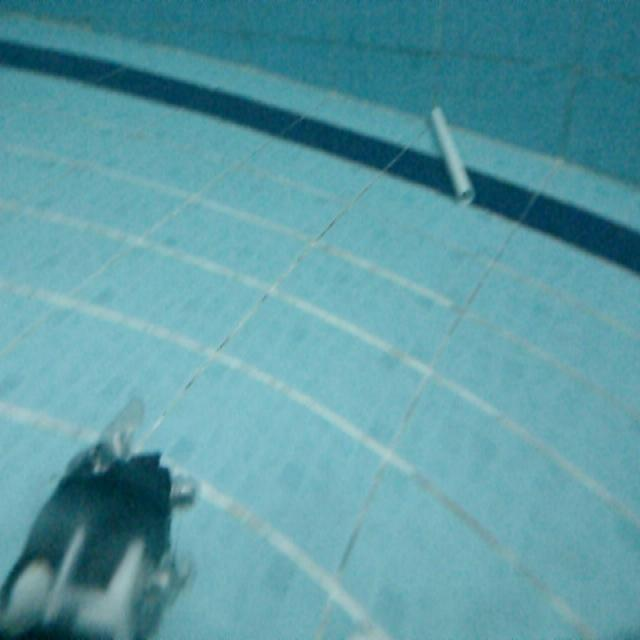Cube: (424, 100, 481, 216)
